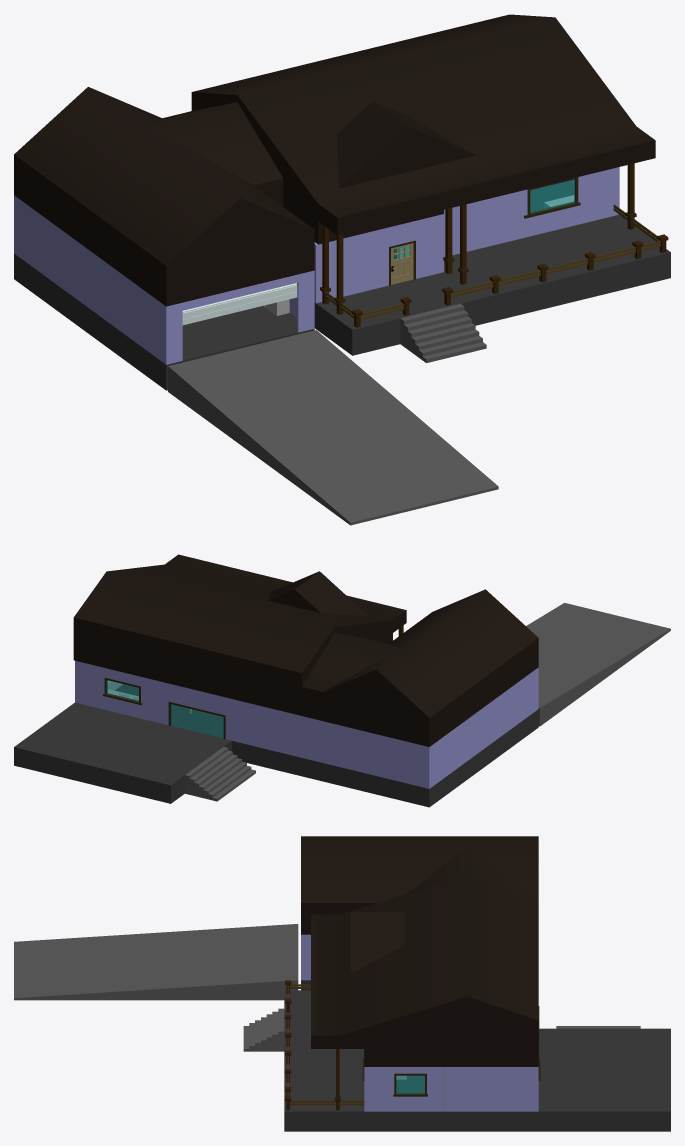
The model's file is EnterableHouse_Mesh01.fbx.
The picture shows the model from 3 angles, top to bottom: view 1: azimuth 30°, elevation 25°; view 2: azimuth 150°, elevation 25°; view 3: azimuth 270°, elevation 25°; orthographic projection. The views are drawn at different scales.
Visible parts, largest first — view 1: Roof_Mesh01, DriveWay_Mesh01, Foundation_Mesh01, Garage_Wall_Mesh03, PorchArea_Wall_Mesh04, PorchArea_Wall_Mesh02, Stairs_FrontPorch_Mesh01, Garage_Wall_Mesh01, FrontPorch_Fence_Mesh21, Garage_GarageDoor_Mesh01, WindowFrame_Mesh01, FrontDoor_Mesh01; view 2: Roof_Mesh01, Foundation_Mesh01, House_BackWall_Mesh01, DriveWay_Mesh01, Garage_Wall_Mesh03, Stairs_BackPorch_Mesh01, SlidingDoor_Mesh01, Window_Mesh03; view 3: Roof_Mesh01, Foundation_Mesh01, DriveWay_Mesh01, House_EastWall_Mesh01, Stairs_FrontPorch_Mesh01, FrontPorch_Fence_Mesh21, Window_Mesh02.
Part boxes in pixels (x1,y1,x2,y2): Roof_Mesh01: (14,14,655,306); DriveWay_Mesh01: (168,330,498,525); Foundation_Mesh01: (14,180,670,390); Garage_Wall_Mesh03: (15,196,164,363); PorchArea_Wall_Mesh04: (444,167,619,256); PorchArea_Wall_Mesh02: (315,214,443,303); Stairs_FrontPorch_Mesh01: (400,303,486,362); Garage_Wall_Mesh01: (165,270,314,364); FrontPorch_Fence_Mesh21: (326,204,668,327); Garage_GarageDoor_Mesh01: (182,283,297,325); WindowFrame_Mesh01: (524,177,580,218); FrontDoor_Mesh01: (391,243,413,284); Roof_Mesh01: (73,554,538,746); Foundation_Mesh01: (14,684,538,807); House_BackWall_Mesh01: (76,661,430,788); DriveWay_Mesh01: (526,603,670,726); Garage_Wall_Mesh03: (430,668,537,787); Stairs_BackPorch_Mesh01: (185,747,255,801); SlidingDoor_Mesh01: (171,704,223,737); Window_Mesh03: (107,680,138,701); Roof_Mesh01: (301,836,538,1066); Foundation_Mesh01: (284,980,670,1131); DriveWay_Mesh01: (14,924,298,1000); House_EastWall_Mesh01: (366,1067,538,1111); Stairs_FrontPorch_Mesh01: (243,1008,284,1051); FrontPorch_Fence_Mesh21: (285,980,364,1110); Window_Mesh02: (396,1076,424,1093).
Bounding box in the file's own units: 39.98 × 13.44 × 58.87.
